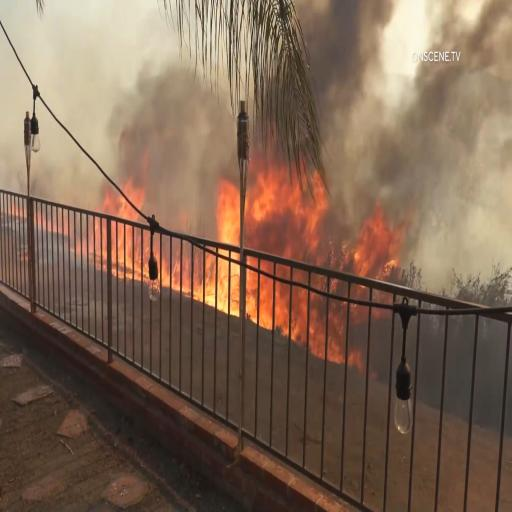fire: (248, 163, 322, 257), (86, 177, 141, 286), (254, 264, 326, 346), (197, 181, 239, 317), (353, 215, 412, 281)
smoke: (327, 84, 508, 200), (124, 80, 222, 178), (309, 10, 385, 102)
